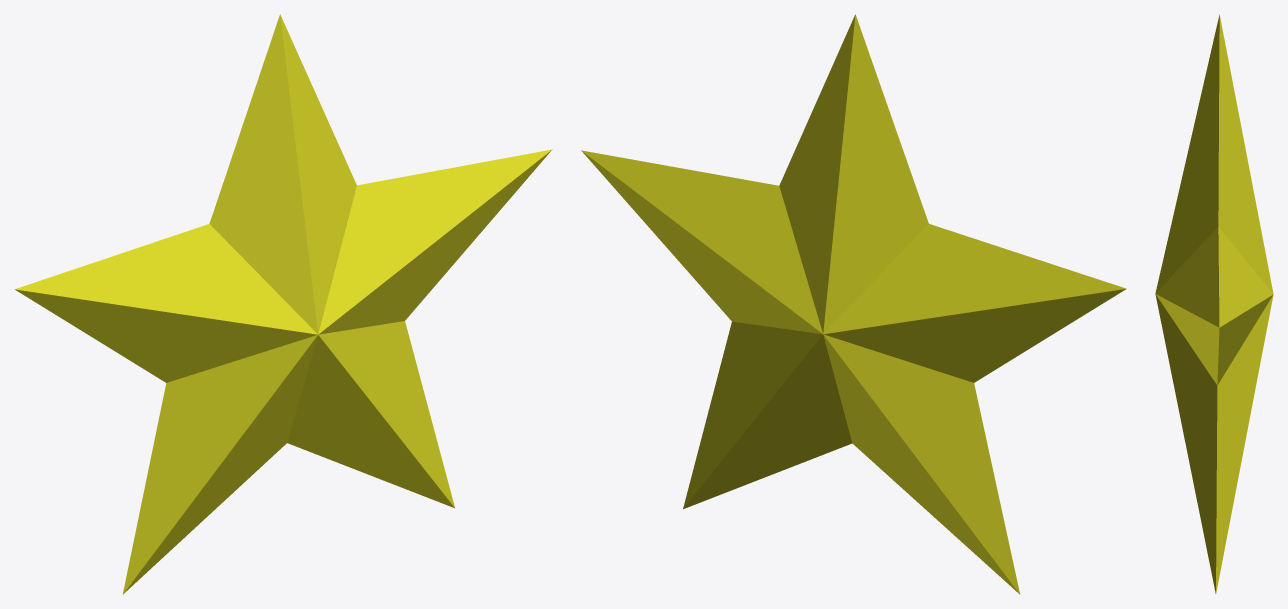
Rendered from star.merge.glb.
3 renders of one model, left to right at view 1: azimuth 30°, elevation 25°; view 2: azimuth 150°, elevation 25°; view 3: azimuth 270°, elevation 25°, orthographic. The views are drawn at different scales.
Visible parts, largest first — view 1: Circle.003, Circle.002, Circle.004, Circle.001, Circle.005; view 2: Circle.003, Circle.002, Circle.004, Circle.001, Circle.005; view 3: Circle.002, Circle.005, Circle.001.
Boxes of the visible parts, left/top/right/bottom form: Circle.003: left=15, top=224, right=317, bottom=382; Circle.002: left=209, top=14, right=356, bottom=334; Circle.004: left=122, top=335, right=317, bottom=594; Circle.001: left=318, top=149, right=552, bottom=334; Circle.005: left=287, top=321, right=454, bottom=508; Circle.003: left=823, top=224, right=1126, bottom=382; Circle.002: left=779, top=14, right=928, bottom=333; Circle.004: left=823, top=334, right=1020, bottom=594; Circle.001: left=581, top=150, right=822, bottom=334; Circle.005: left=683, top=321, right=852, bottom=509; Circle.002: left=1155, top=14, right=1273, bottom=293; Circle.005: left=1155, top=294, right=1273, bottom=593; Circle.001: left=1155, top=226, right=1273, bottom=385.
Bounding box in the file's own units: 2.26 × 2.16 × 0.4569.
